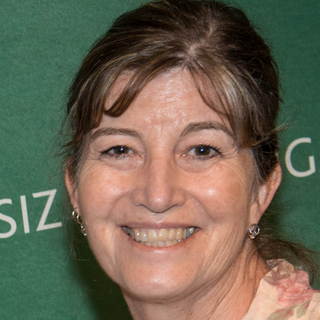eye: (173, 141, 228, 167), (96, 142, 144, 165)
